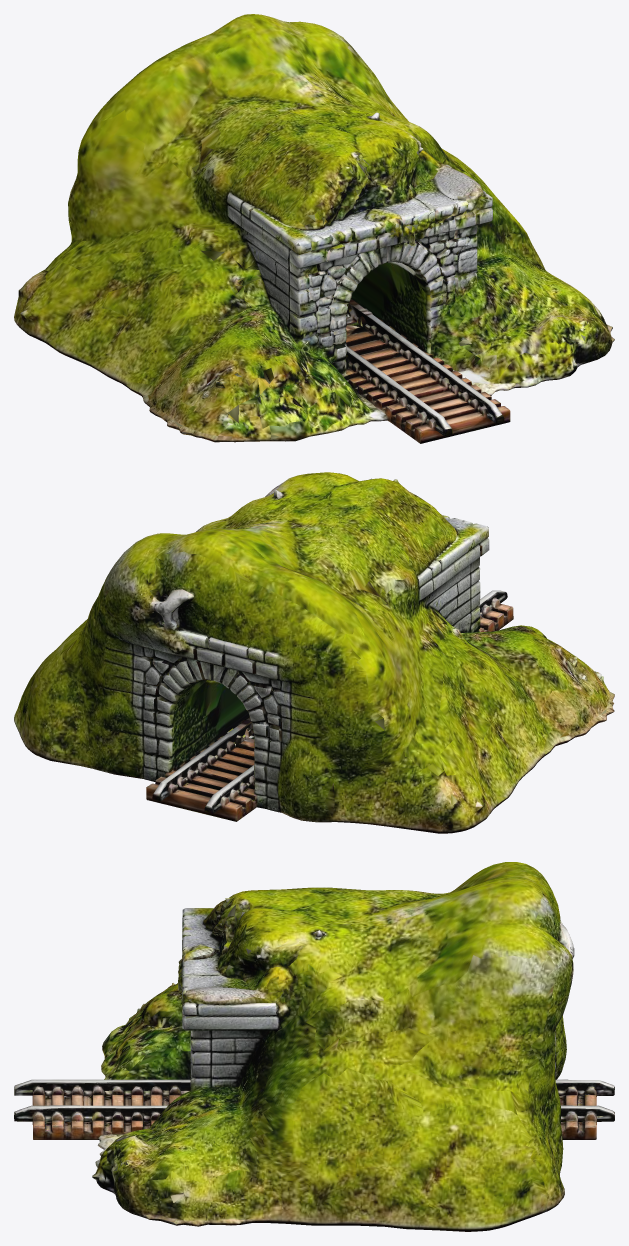
Rendered from tunnel.glb.
3 views of the same model, one above another, from view 1: azimuth 30°, elevation 25°; view 2: azimuth 150°, elevation 25°; view 3: azimuth 270°, elevation 25° (orthographic). The views are drawn at different scales.
Visible parts, largest first — view 1: tunnel; view 2: tunnel; view 3: tunnel.
Part boxes in pixels (x1,y1,x2,y2): tunnel: (14,14,614,443); tunnel: (14,472,614,833); tunnel: (14,862,614,1231).
Bounding box in the file's own units: 2.01 × 1 × 2.22.
1 material, 1 textured.
